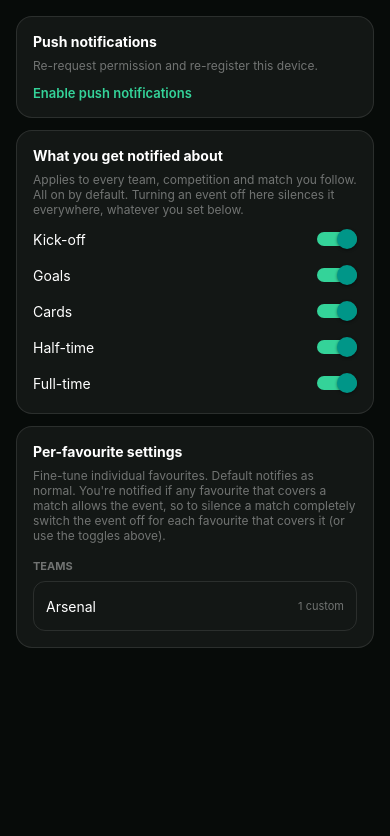
it: per-favourite notification settings › choosing Default removes the override on the server
The image size is (390, 836).
Click the button with aria-label "Arsenal, 1 custom settings": (71, 606) [34,582,356,630]
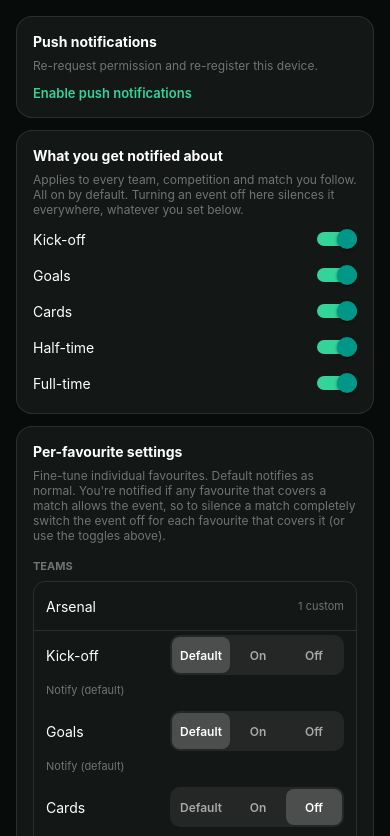
Click the radio button with aria-label "Arsenal Cards: Default": (201, 807) [180,800,222,814]
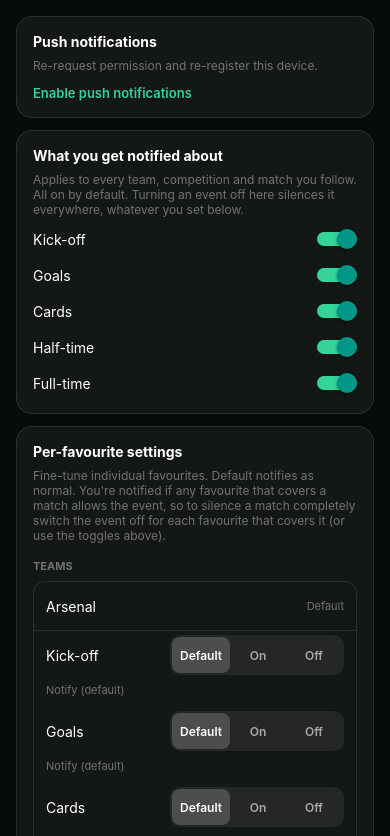
Check: the button with aria-label "Arsenal, default settings" is shown, box [34,582,356,630]
